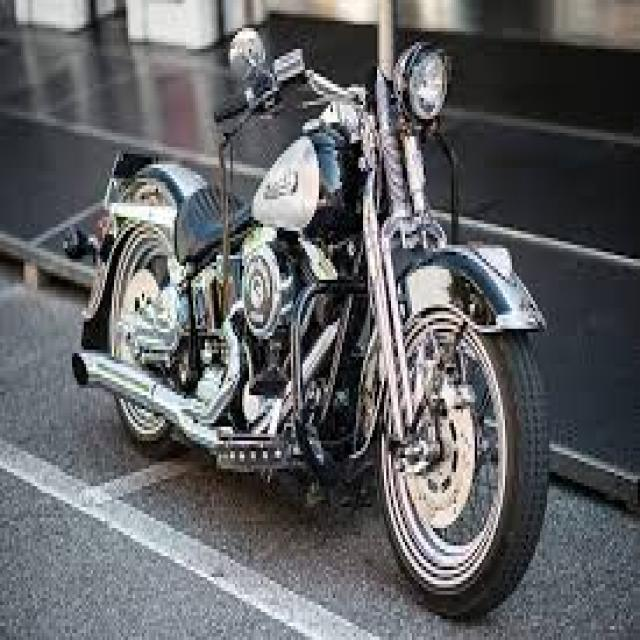Bike: (81, 28, 544, 612)
